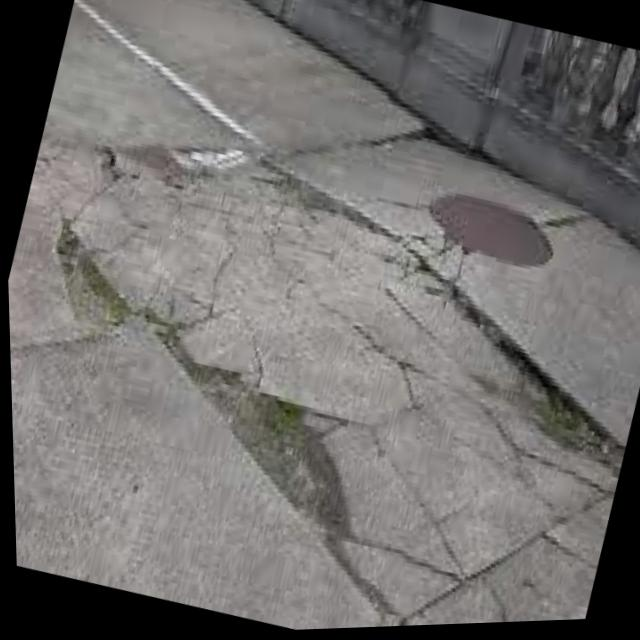Crack: (323, 301, 494, 448)
